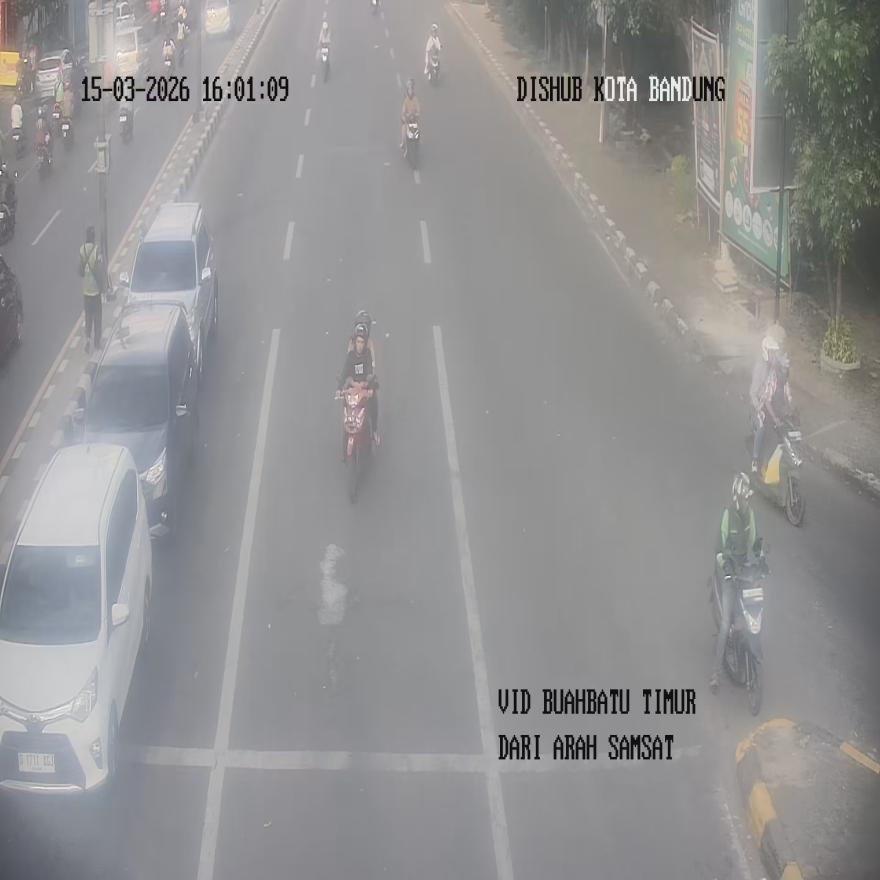Motor: (0, 443, 152, 796), (78, 302, 198, 536), (121, 201, 218, 384)
Truk: (709, 541, 769, 715), (750, 411, 804, 526), (338, 382, 376, 503), (0, 163, 17, 246), (404, 115, 420, 168), (37, 130, 52, 177), (118, 104, 133, 144), (426, 48, 440, 86), (11, 126, 25, 160), (176, 18, 187, 61), (60, 114, 72, 149), (164, 36, 174, 73), (321, 40, 330, 81)
